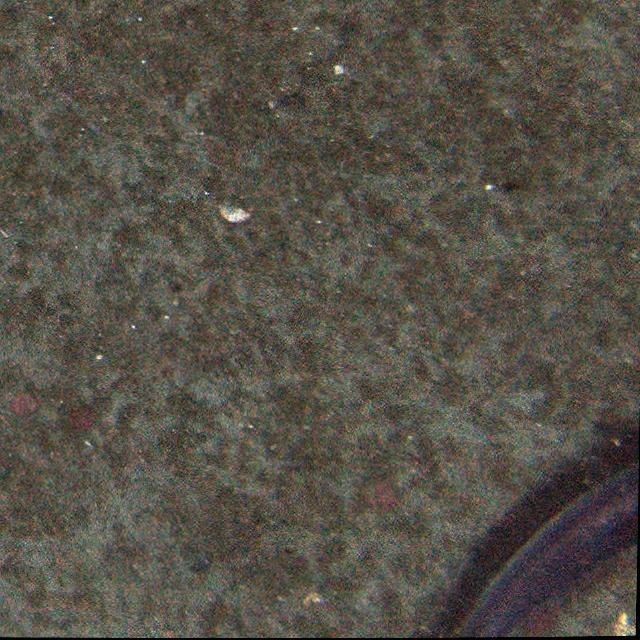roundfish: (434, 450, 636, 637)
